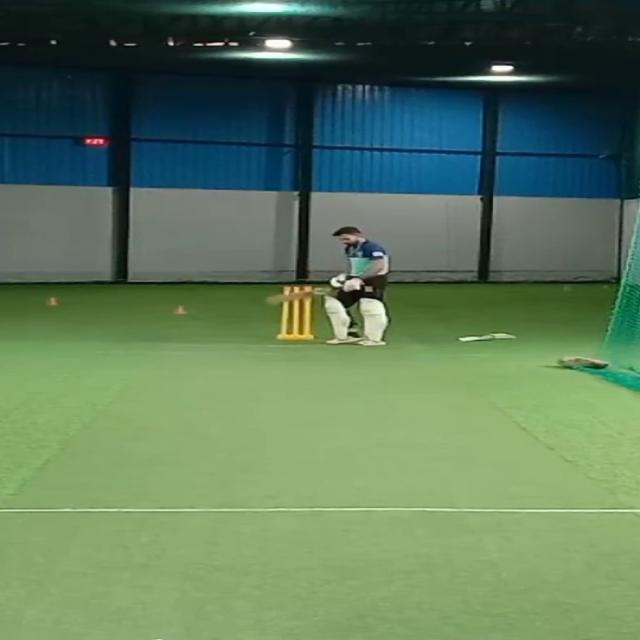stump: (275, 282, 316, 342)
